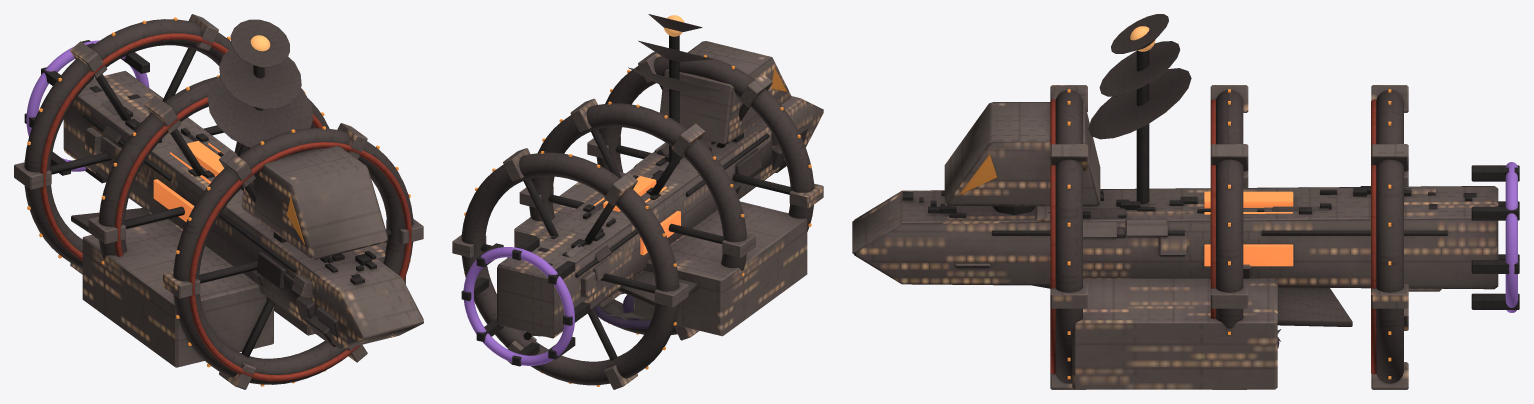
The model's file is vashkar_base.glb.
3 renders of one model, left to right at view 1: azimuth 30°, elevation 25°; view 2: azimuth 150°, elevation 25°; view 3: azimuth 270°, elevation 25°, orthographic. The views are drawn at different scales.
Parts seen in each view (by area): view 1: HULL_mesh, SYS_HANGAR_mesh, SYS_BRIDGE_mesh, SYS_SENSORS_mesh, SPIN_0_mesh, SYS_REACTOR_mesh, SYS_BUS_F_mesh, SYS_BUS_A_mesh; view 2: HULL_mesh, SYS_HANGAR_mesh, SYS_BRIDGE_mesh, SPIN_0_mesh, SYS_SENSORS_mesh, SYS_DAMP_mesh, SYS_REACTOR_mesh, SYS_BUS_F_mesh; view 3: HULL_mesh, SYS_HANGAR_mesh, SYS_BRIDGE_mesh, SYS_SENSORS_mesh, SPIN_0_mesh, SYS_REACTOR_mesh, SYS_BUS_A_mesh.
Boxes of the visible parts, box(x1,y1,x2,y2) form: HULL_mesh: box(14, 14, 423, 389); SYS_HANGAR_mesh: box(82, 219, 405, 367); SYS_BRIDGE_mesh: box(241, 146, 387, 259); SYS_SENSORS_mesh: box(207, 19, 313, 147); SPIN_0_mesh: box(24, 40, 163, 183); SYS_REACTOR_mesh: box(153, 141, 224, 221); SYS_BUS_F_mesh: box(219, 213, 296, 272); SYS_BUS_A_mesh: box(82, 113, 171, 181); HULL_mesh: box(452, 51, 823, 389); SYS_HANGAR_mesh: box(514, 172, 807, 336); SYS_BRIDGE_mesh: box(660, 41, 791, 144); SPIN_0_mesh: box(461, 236, 590, 366); SYS_SENSORS_mesh: box(628, 14, 722, 163); SYS_DAMP_mesh: box(594, 293, 651, 328); SYS_REACTOR_mesh: box(593, 176, 680, 255); SYS_BUS_F_mesh: box(686, 133, 769, 196); HULL_mesh: box(852, 85, 1498, 389); SYS_HANGAR_mesh: box(1072, 278, 1277, 389); SYS_BRIDGE_mesh: box(944, 102, 1100, 214); SYS_SENSORS_mesh: box(1088, 14, 1191, 204); SPIN_0_mesh: box(1471, 162, 1519, 312); SYS_REACTOR_mesh: box(1204, 191, 1293, 266); SYS_BUS_A_mesh: box(1261, 230, 1447, 235).
Size of the model in its own units: 114 by 146 by 250.
1 material, 1 textured.
